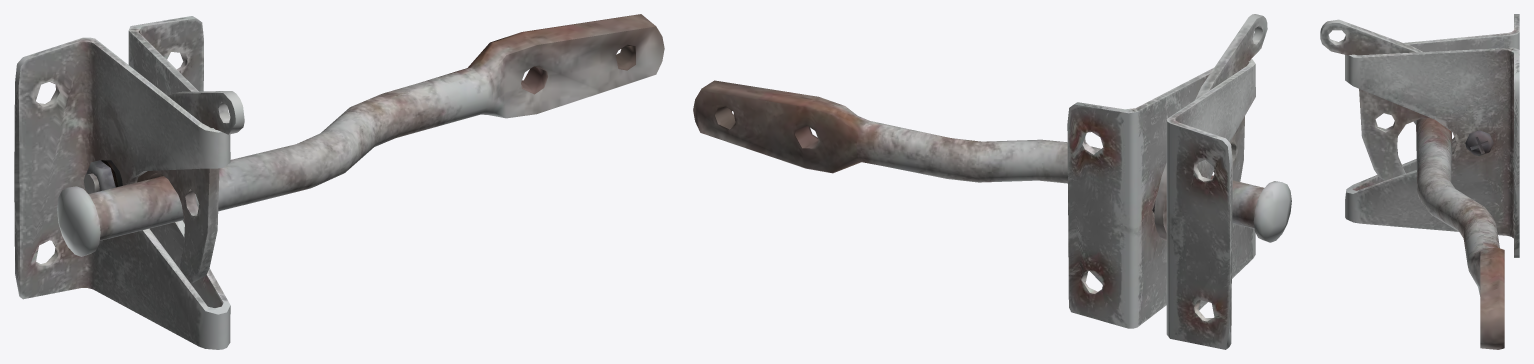
The model's file is gate_latch_01.glb.
3 views of the same model, side by side, from view 1: azimuth 30°, elevation 25°; view 2: azimuth 150°, elevation 25°; view 3: azimuth 270°, elevation 25° (orthographic). The views are drawn at different scales.
Visible parts, largest first — view 1: gate_latch_01_frame; view 2: gate_latch_01_frame; view 3: gate_latch_01_frame.
Boxes of the visible parts, bbox=[...] form: gate_latch_01_frame: bbox=[14, 14, 664, 349]; gate_latch_01_frame: bbox=[693, 14, 1291, 349]; gate_latch_01_frame: bbox=[1320, 14, 1519, 349].
Size of the model in its own units: 0.205 by 0.0854 by 0.0747.
Materials: 1 (1 with a texture image).
